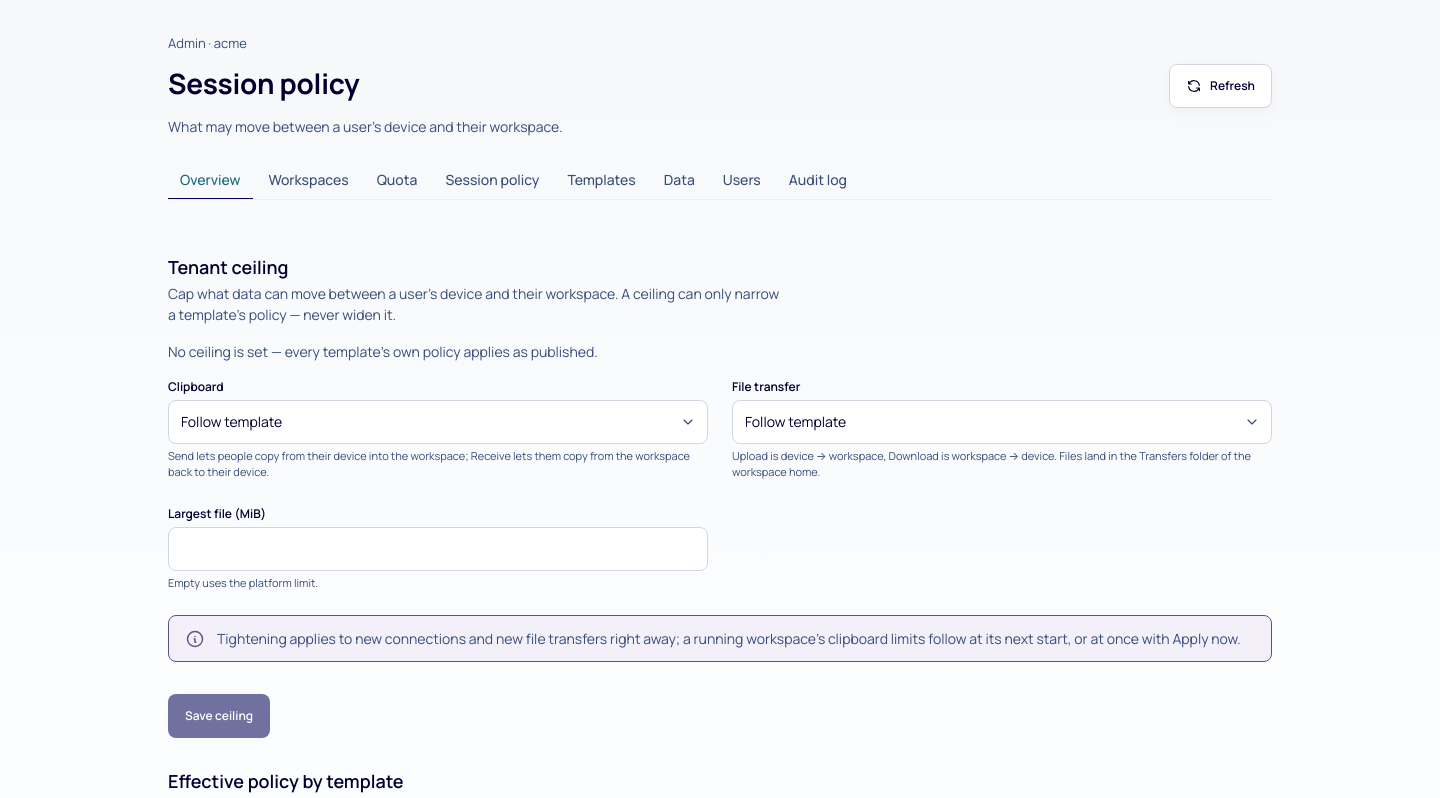
Test case: session policy page › saving a ceiling PUTs with If-Match and FollowTemplate deletes the row
This screenshot has width=1440, height=798.
// No row yet: If-Match "*" creates it.
Select "Disabled" in the dropdown labelled "Clipboard": (438,422) [168,400,708,444]
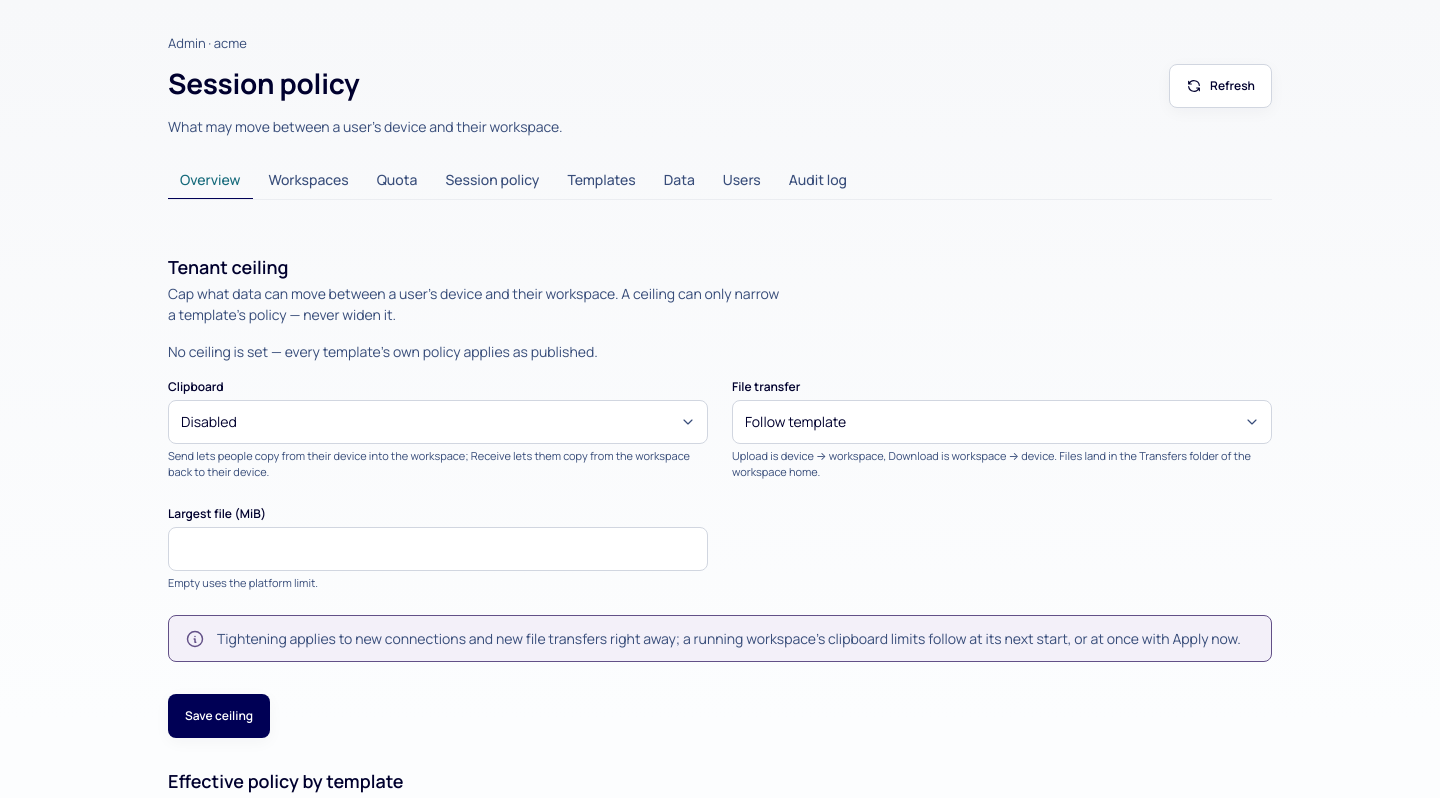
Click the button "Save ceiling": (219,716) [168,694,270,738]
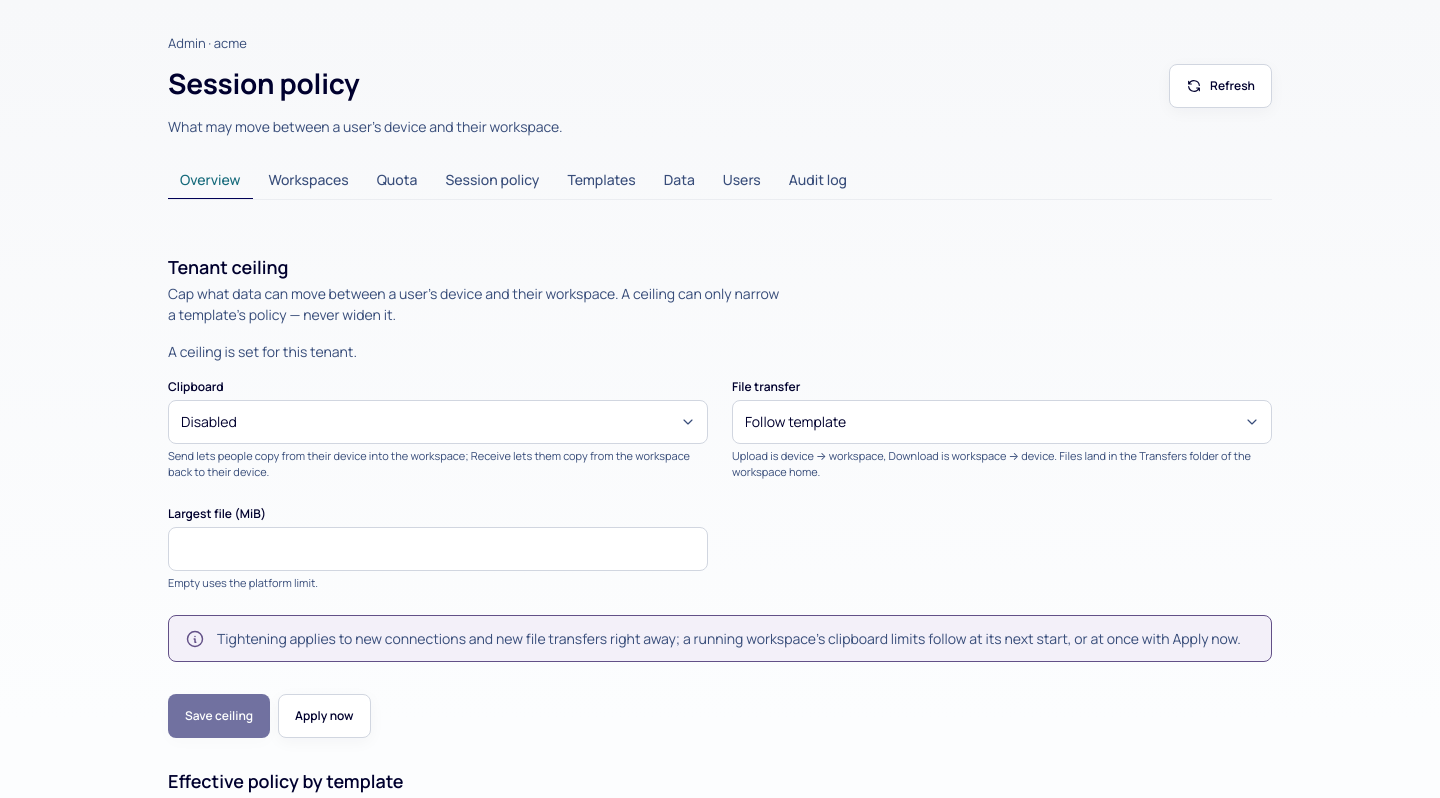
Now the text "A ceiling is set for this tenant." is shown, box [168,342,357,360]
// Back to Follow template: the PUT deletes the row.
Select "Follow template" in the dropdown labelled "Clipboard": (438,422) [168,400,708,444]
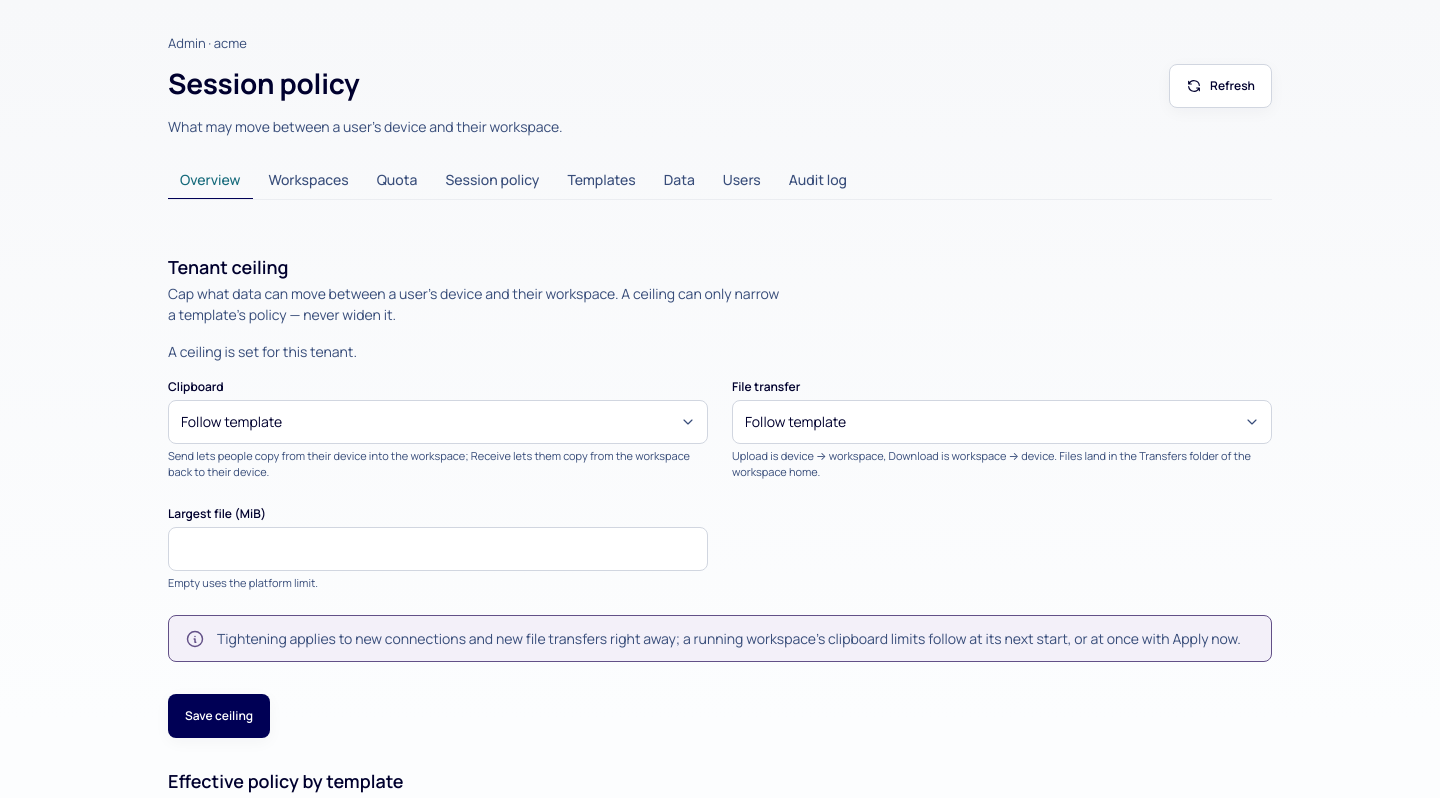
Click the button "Save ceiling": (219,716) [168,694,270,738]
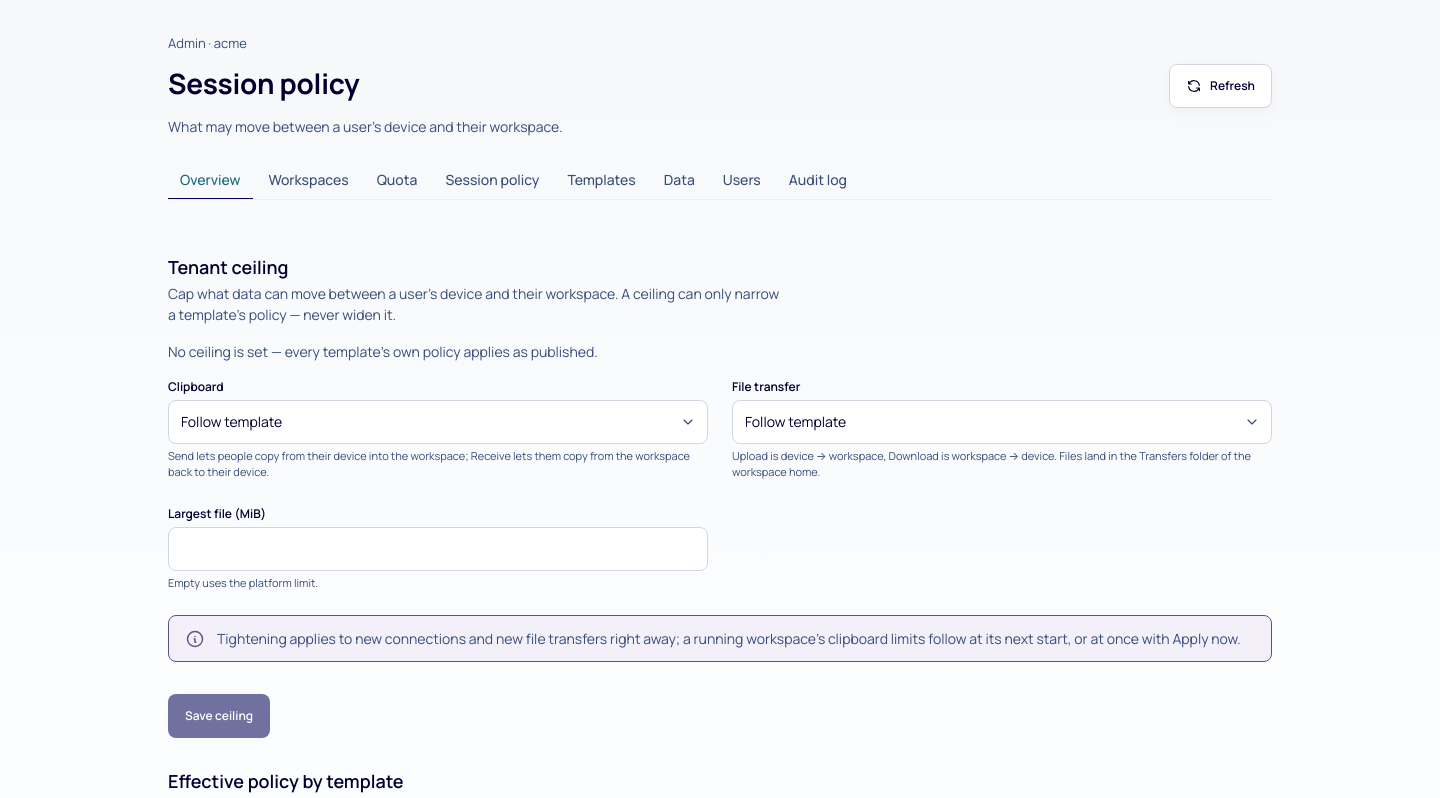
Now the text "No ceiling is set" is shown, box [168,342,598,360]
